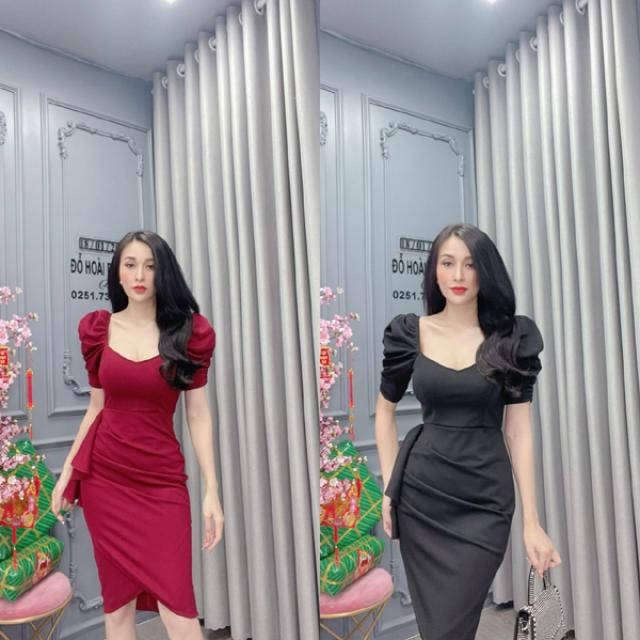clothes: (375, 304, 545, 640), (64, 303, 200, 618)
